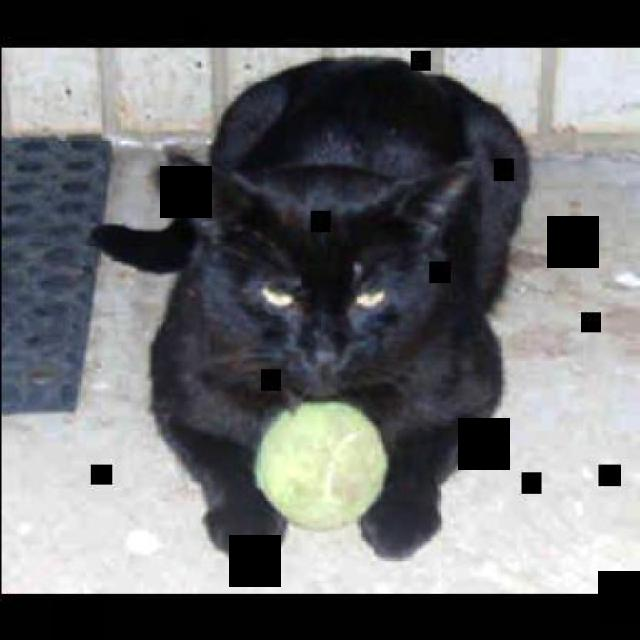unauthorized: (86, 55, 531, 563)
